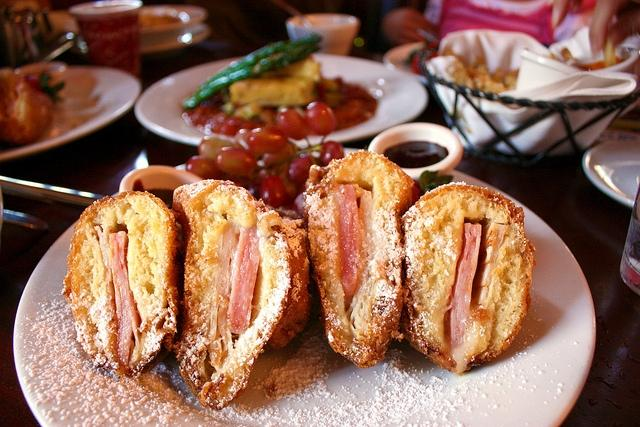asparagus: (182, 44, 322, 110), (196, 32, 322, 94)
grape: (214, 146, 258, 176), (246, 124, 288, 154), (304, 101, 338, 136), (185, 154, 228, 180), (276, 108, 308, 140), (262, 140, 298, 168), (259, 175, 287, 208), (198, 138, 235, 160), (284, 156, 312, 185), (320, 141, 344, 166), (234, 128, 250, 149), (271, 160, 288, 174), (205, 108, 223, 120)
